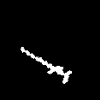double_crochet: (21, 47, 71, 83)
